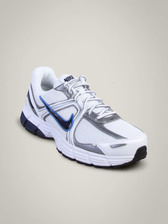shoes: (10, 58, 152, 170)
